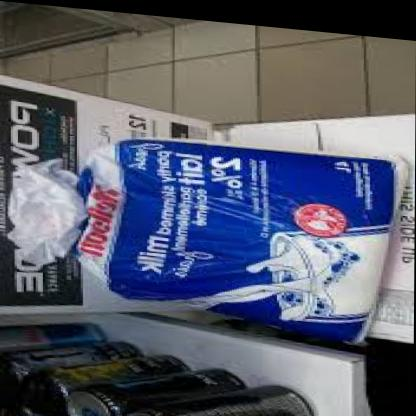Plastic: (10, 101, 399, 356)
